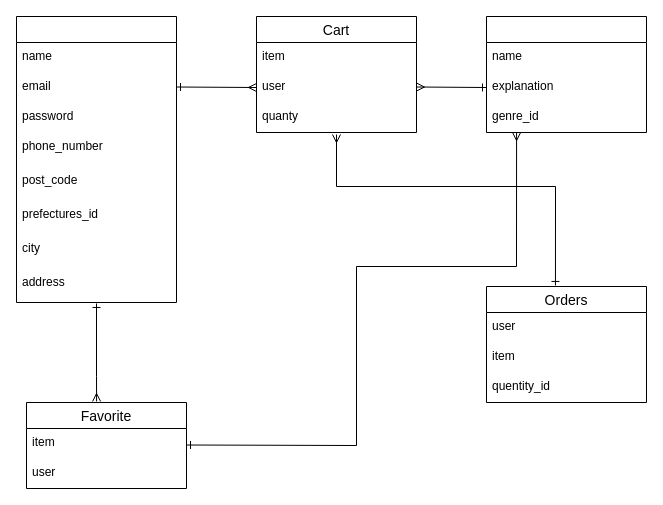
This 663x505 diagram has some shape labels left out. The box of each missing label's shape, as (x1, y1, x2, y2) in pixels:
Items: (486, 16, 646, 132)
Users: (16, 16, 176, 302)
